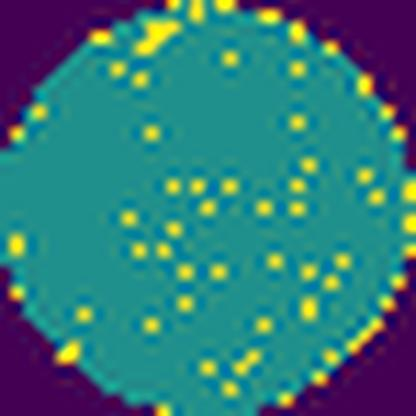Loc: (134, 14, 184, 52)
